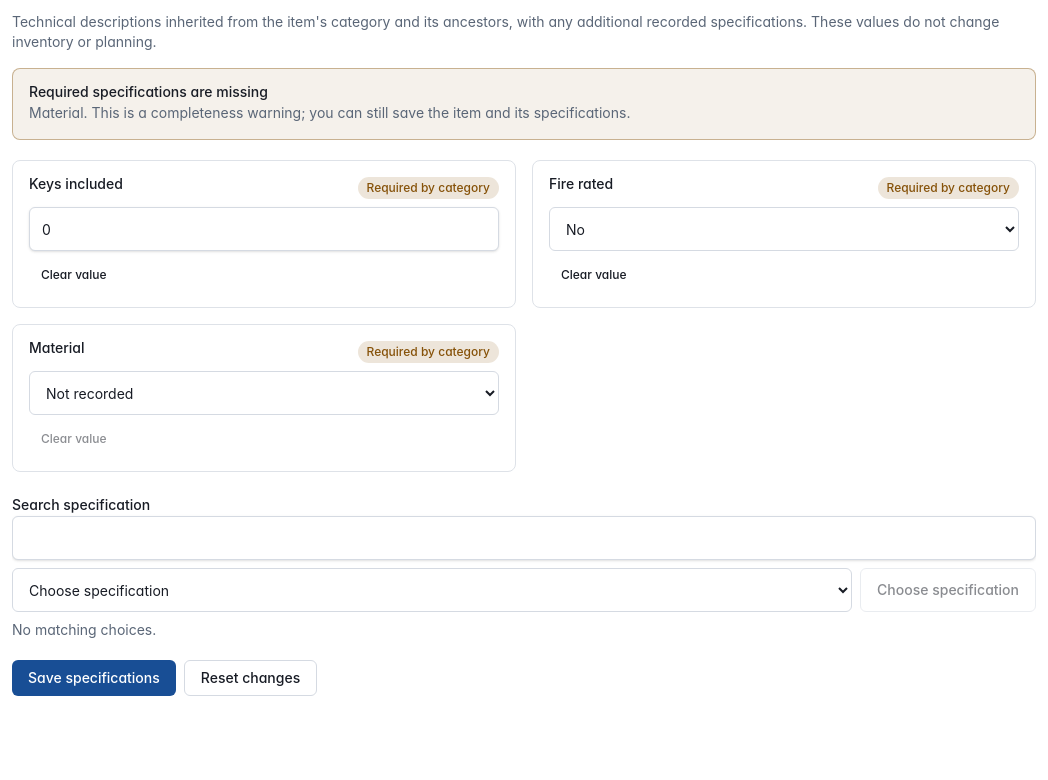
Test case: item specification editor › marks malformed decimals locally without sending a replacement
Clear the field labelled "Keys included": point(264, 229) [29,207,499,251]
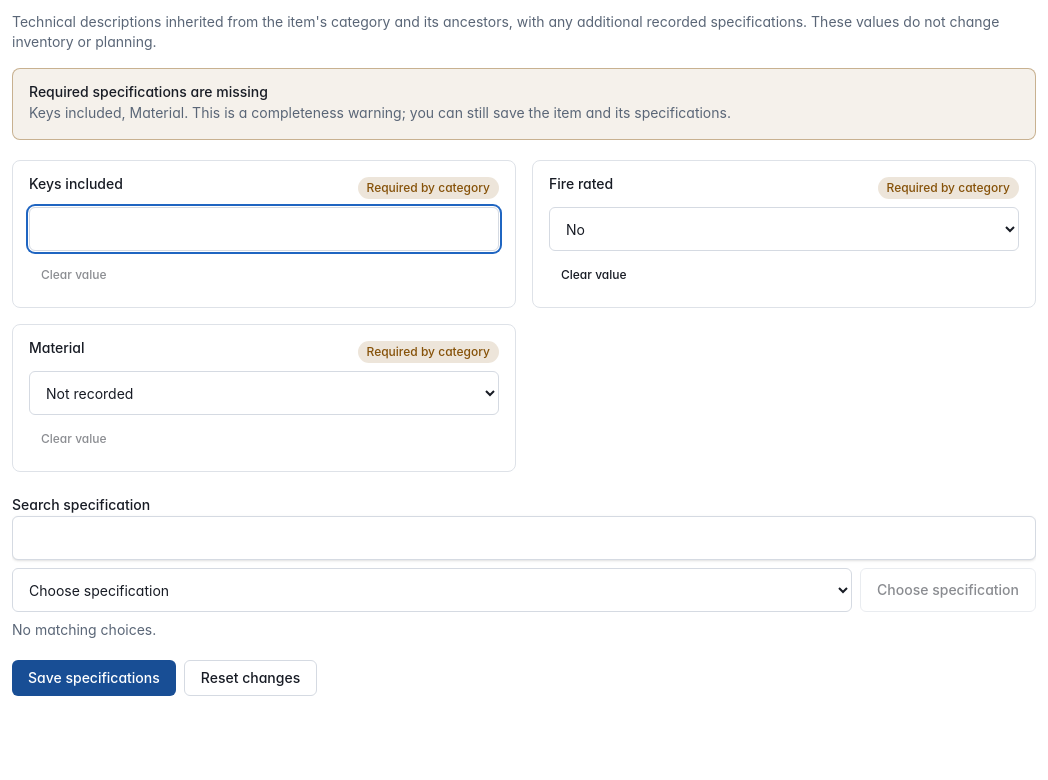
Type keys "0.00001"
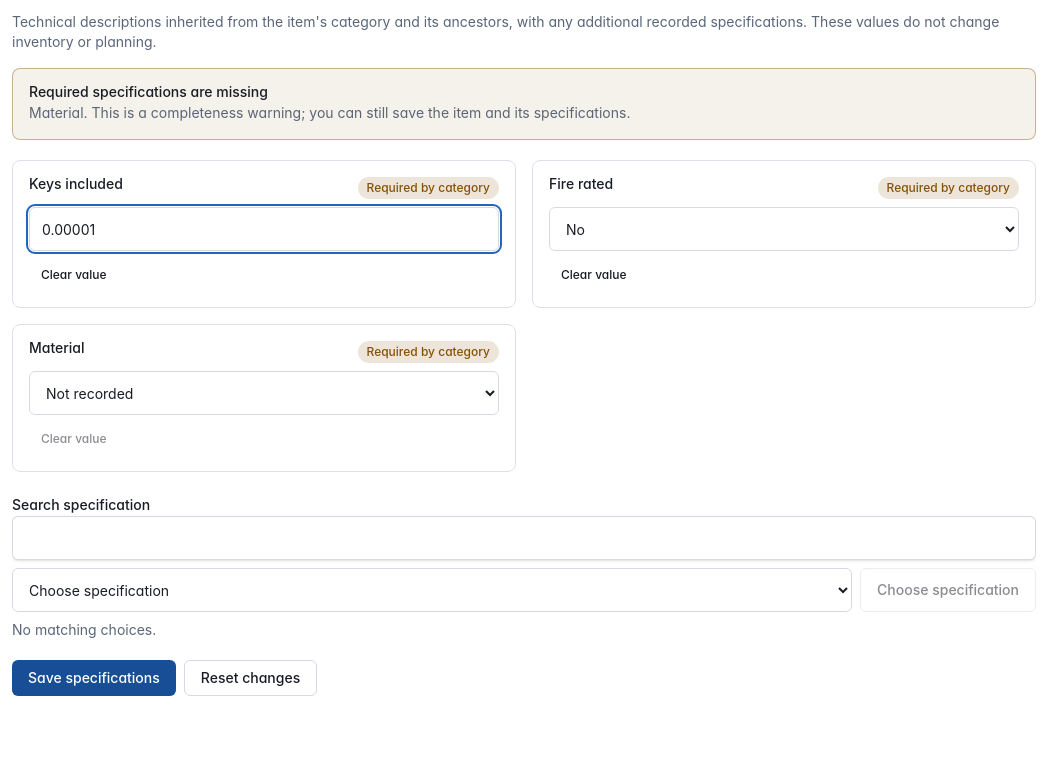
Click the button "Save specifications": point(94, 678) [12,660,176,696]
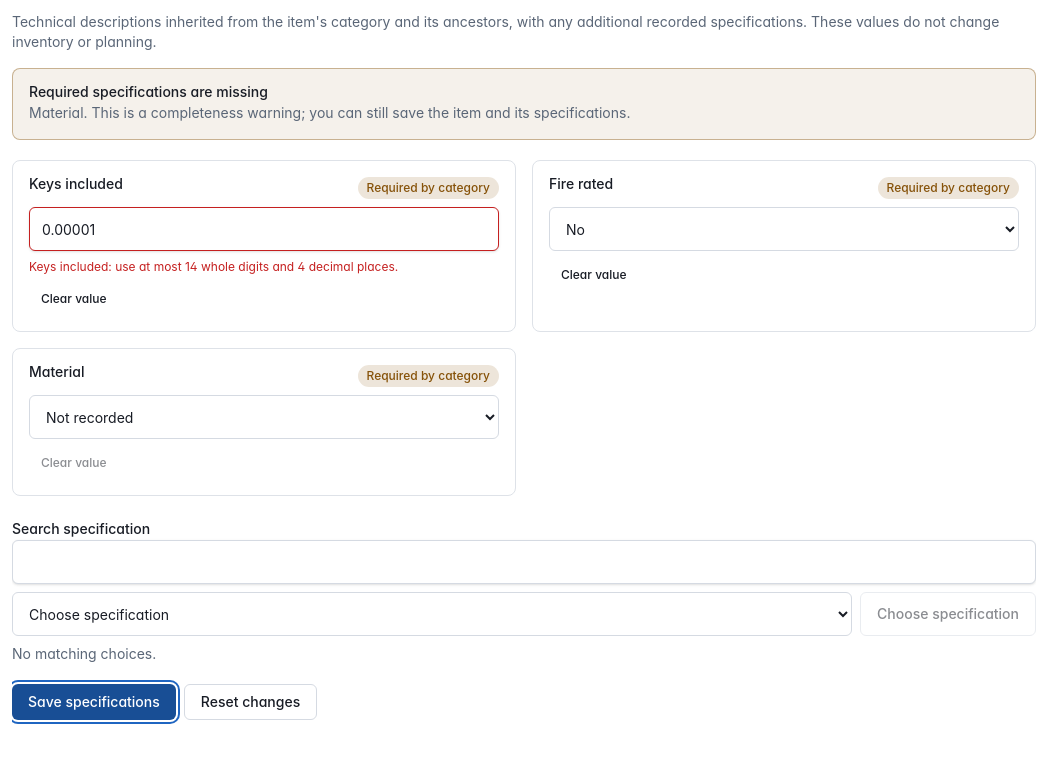
Result: the text "Keys included: use at most 14 whole digits and 4 decimal places." is shown at [29,259,398,274]
